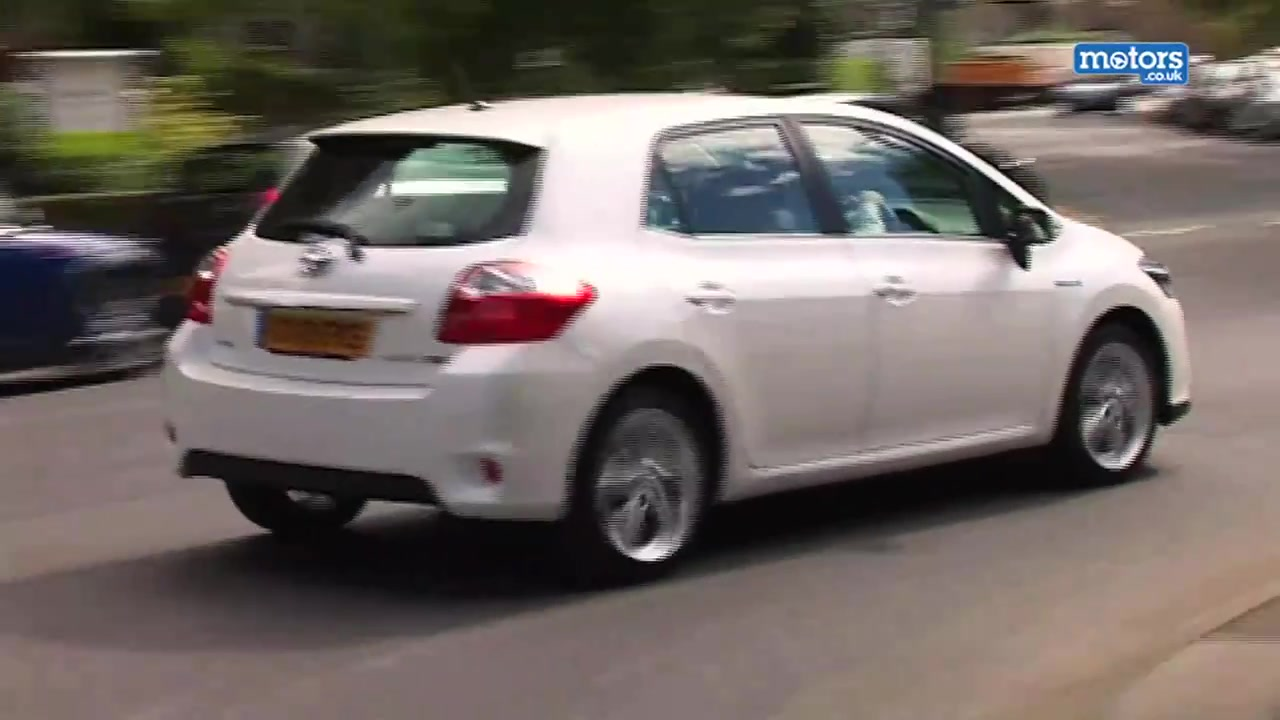car: (151, 89, 1193, 582), (1, 169, 168, 380), (158, 145, 284, 328), (1184, 50, 1280, 139)
